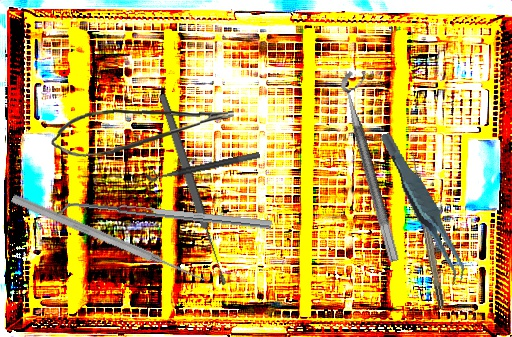Fixation Ring: (337, 67, 416, 263), (143, 142, 261, 183)
Hook Surgical: (409, 149, 445, 310)
Micro Scissor: (49, 104, 236, 160)
Pusher: (9, 192, 209, 287)
Spatula Surgical: (57, 198, 272, 238)
Surgical Spoon: (156, 91, 230, 288)
Tissue Forceps: (379, 122, 469, 295)
